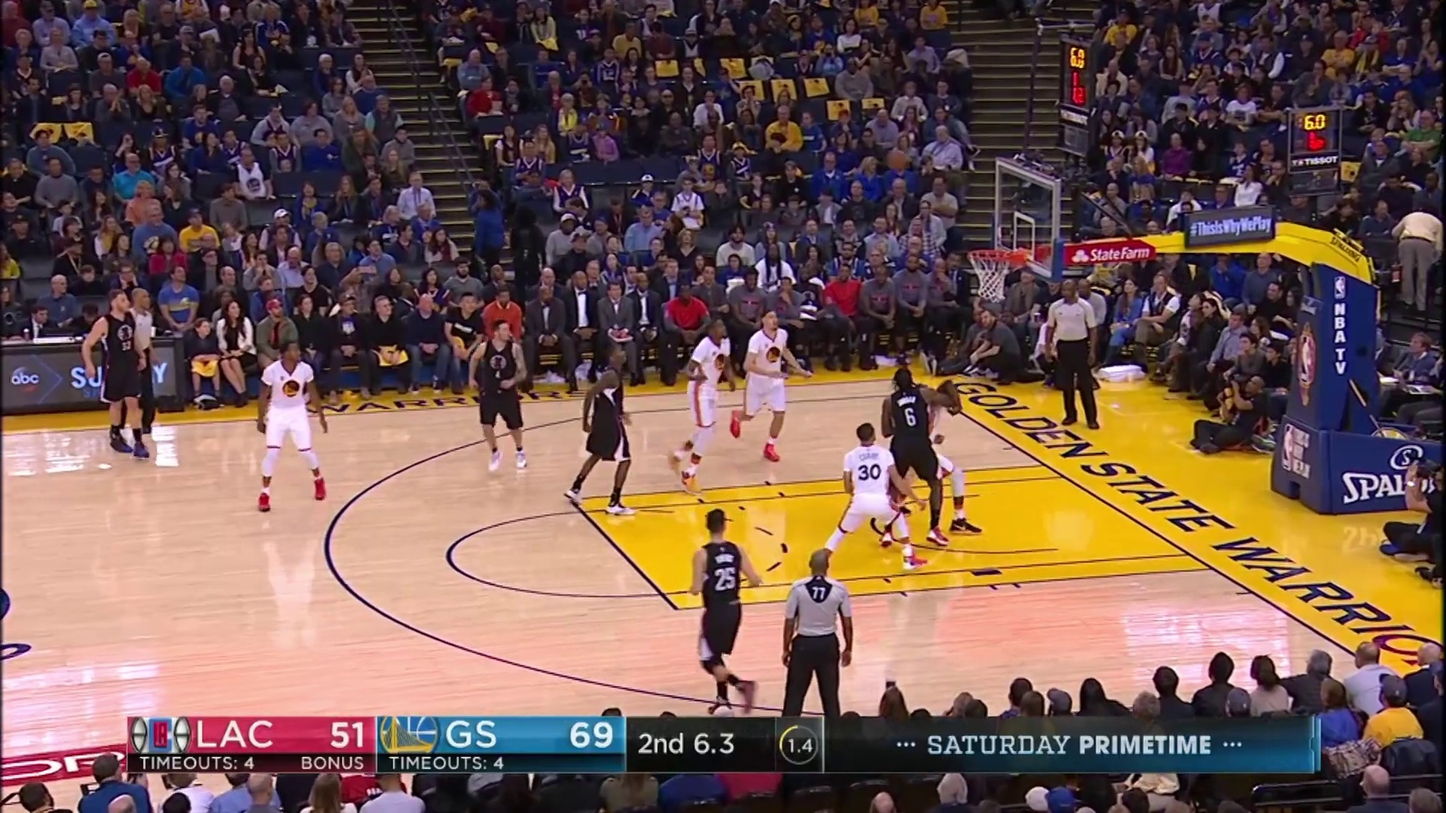basket_hoop: (930, 143, 1086, 316)
